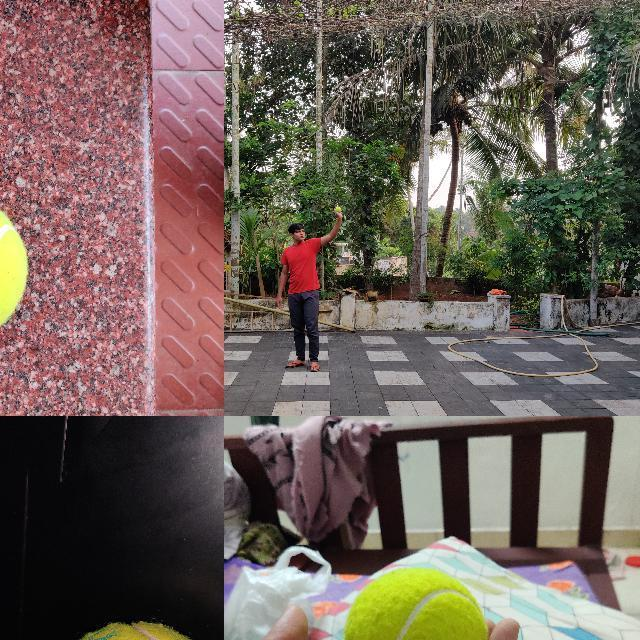tennis-ball: (345, 567, 487, 639), (335, 206, 341, 212)
